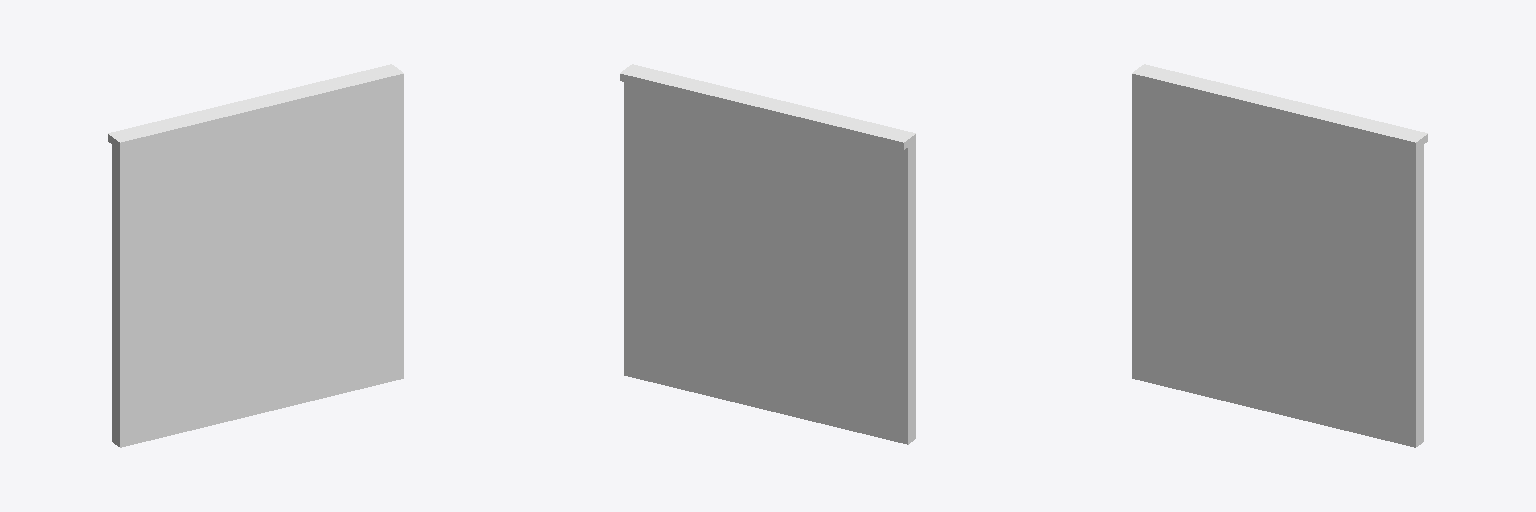
The model's file is lynx-like-cart.obj.
3 views of the same model, side by side, from view 1: azimuth 30°, elevation 25°; view 2: azimuth 150°, elevation 25°; view 3: azimuth 330°, elevation 25° (orthographic).
Parts seen in each view (by area): view 1: lynx-like-cart; view 2: lynx-like-cart; view 3: lynx-like-cart.
Part boxes in pixels (left/top/right/bottom): lynx-like-cart: left=108, top=64, right=403, bottom=447; lynx-like-cart: left=620, top=64, right=915, bottom=444; lynx-like-cart: left=1132, top=64, right=1427, bottom=447.
Size of the model in its own units: 39 by 40 by 3.